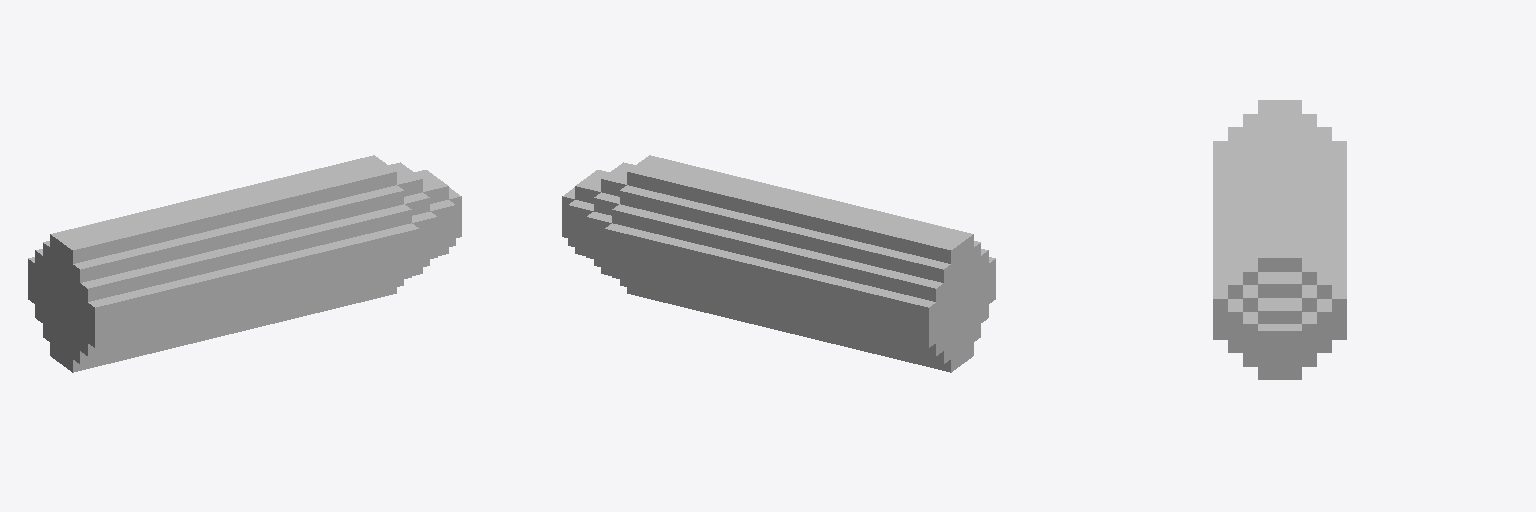
Rendered from bullet2.obj.
3 renders of one model, left to right at view 1: azimuth 30°, elevation 25°; view 2: azimuth 150°, elevation 25°; view 3: azimuth 270°, elevation 25°, orthographic.
Parts seen in each view (by area): view 1: object 1; view 2: object 1; view 3: object 1.
Part boxes in pixels (x1,y1,x2,y2): object 1: (28, 155, 461, 372); object 1: (562, 155, 995, 372); object 1: (1213, 100, 1346, 379).
Size of the model in its own units: 3 by 0.9 by 0.9.